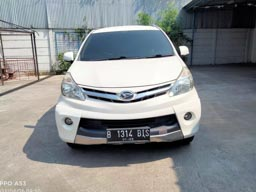plat: (106, 130, 150, 137)
